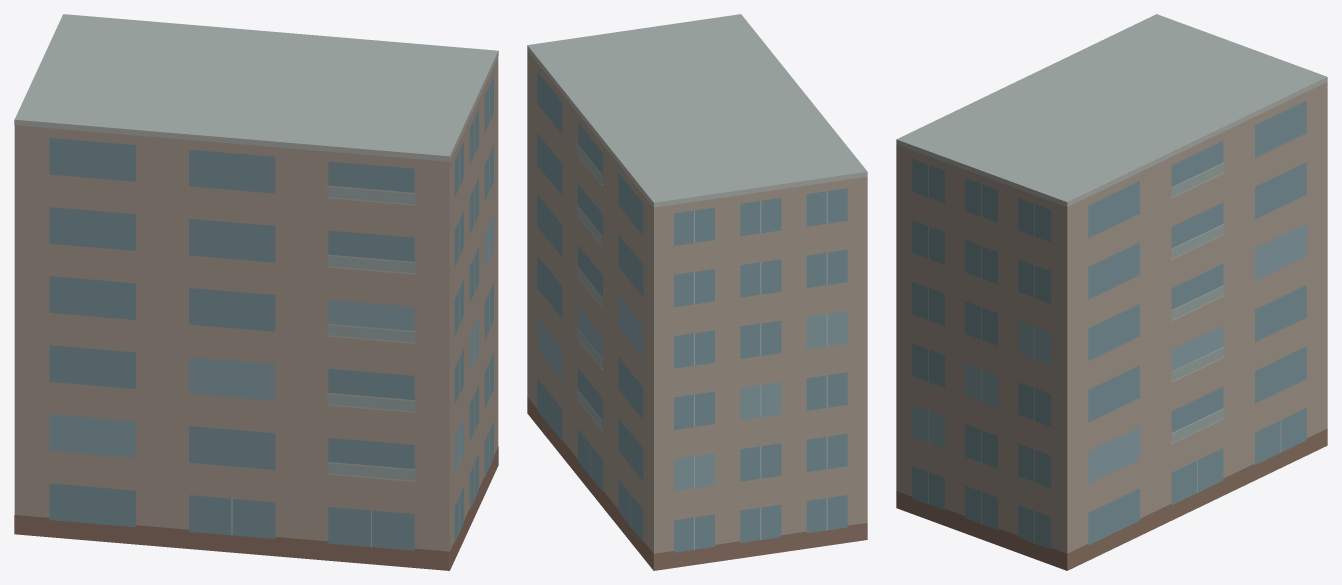
The model's file is survey-upis-32665397.glb.
3 views of the same model, side by side, from view 1: azimuth 30°, elevation 25°; view 2: azimuth 150°, elevation 25°; view 3: azimuth 270°, elevation 25° (orthographic). The views are drawn at different scales.
Visible parts, largest first — view 1: survey-upis-32665397.tmp; view 2: survey-upis-32665397.tmp; view 3: survey-upis-32665397.tmp.
Part boxes in pixels (x1,y1,x2,y2): survey-upis-32665397.tmp: (14,14,498,570); survey-upis-32665397.tmp: (527,14,867,570); survey-upis-32665397.tmp: (896,14,1327,570).
Bounding box in the file's own units: 20.04 × 18.3 × 19.41.
